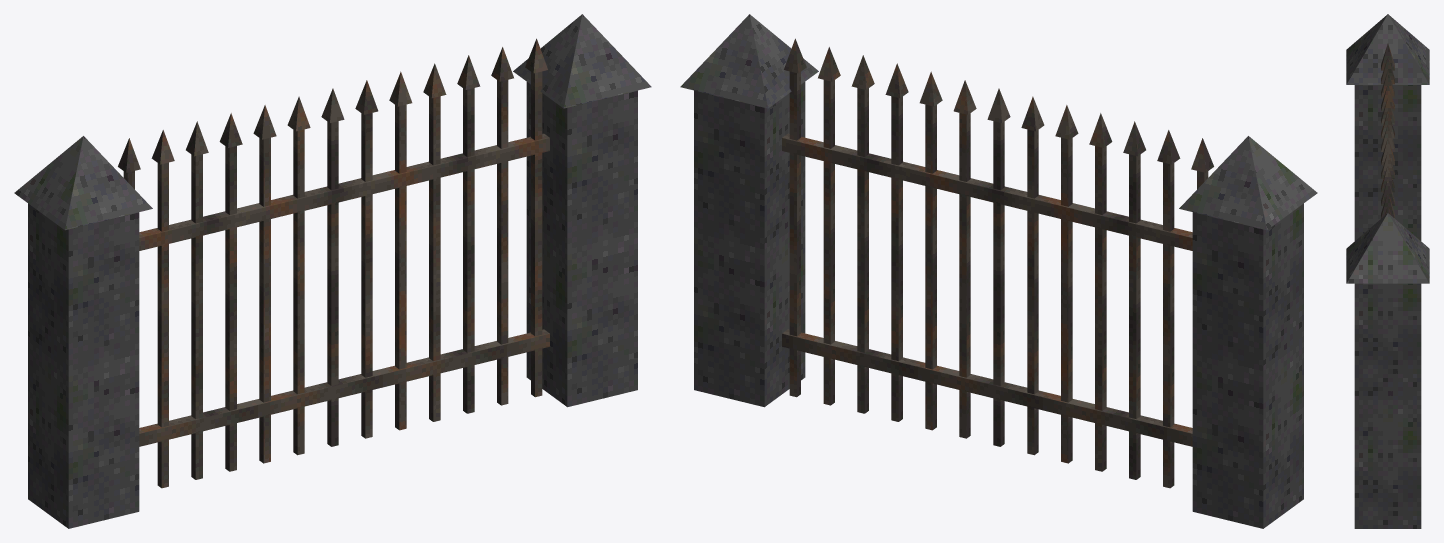
File: verja.obj
The picture shows the model from 3 angles, left to right: view 1: azimuth 30°, elevation 25°; view 2: azimuth 150°, elevation 25°; view 3: azimuth 270°, elevation 25°; orthographic projection. The views are drawn at different scales.
Parts seen in each view (by area): view 1: verja; view 2: verja; view 3: verja.
Part boxes in pixels (box(x1,y1,x2,y2)): verja: box(14, 14, 651, 528); verja: box(680, 14, 1317, 528); verja: box(1346, 14, 1429, 528).
Size of the model in its own units: 2.82 by 1.7 by 0.4243.
Materials: 2 (2 with a texture image).
